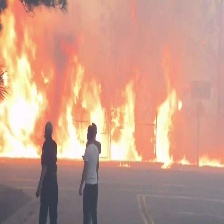fire: (1, 13, 224, 169)
